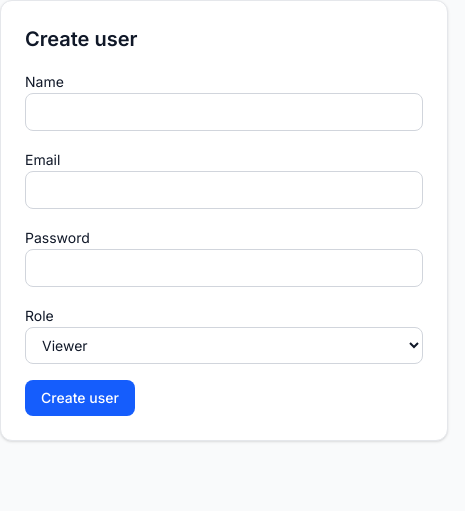
Test case: CreateUserForm › renders the server error returned by the Server Action
Type "Sarah Chen" into the field labelled "Name" at coordinates (224, 112), box [25, 93, 423, 131]
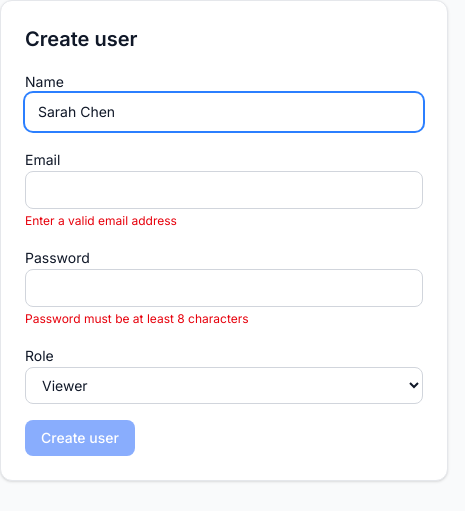
Type "sarah@example.com" into the field labelled "Email Enter a valid email address" at coordinates (224, 190), box [25, 171, 423, 209]
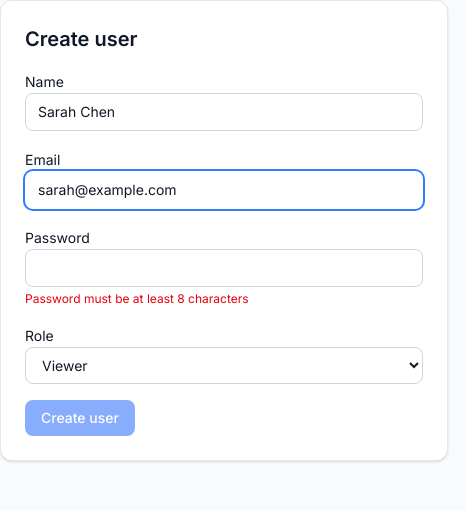
Type "correctHorse42" into the password field labelled "Password Password must be at least 8 characters" at coordinates (224, 268), box [25, 249, 423, 287]
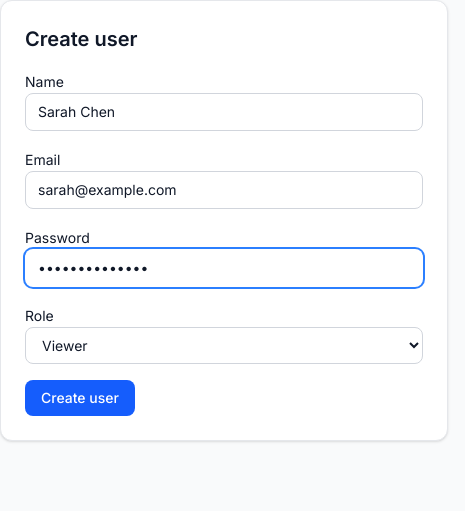
Click the button "Create user" at coordinates (80, 398), box [25, 380, 135, 416]
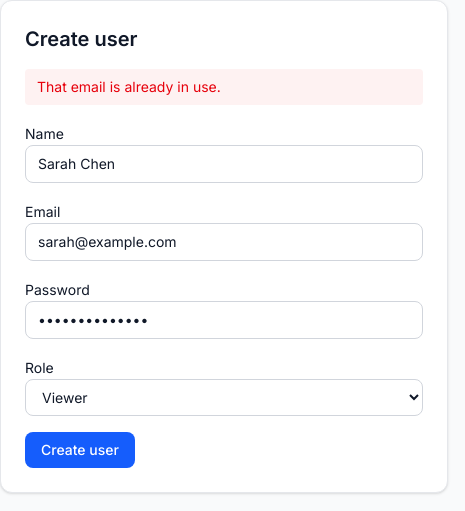
Expected: the text "That email is already in use." is shown, [25, 69, 423, 105]
